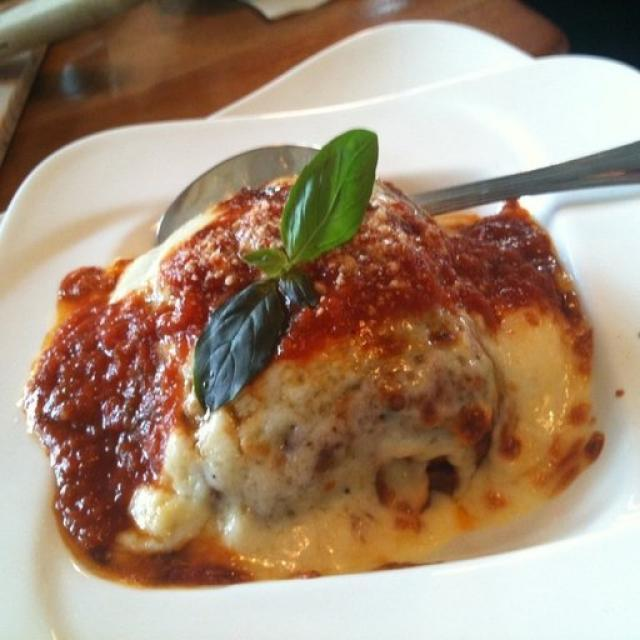Lasagna: (48, 165, 589, 583)
